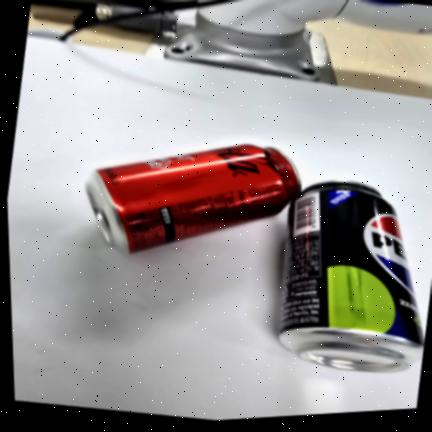can_coke_zero: (86, 144, 301, 253)
can_pepsi_zero: (278, 181, 426, 372)
